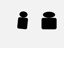human: (40, 10, 59, 30), (16, 9, 29, 29)
